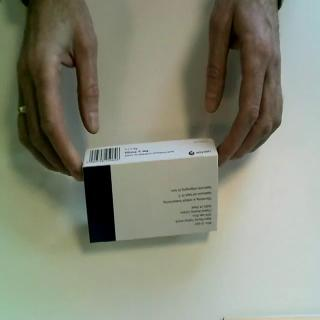ultiva5mg: (82, 137, 220, 245)
